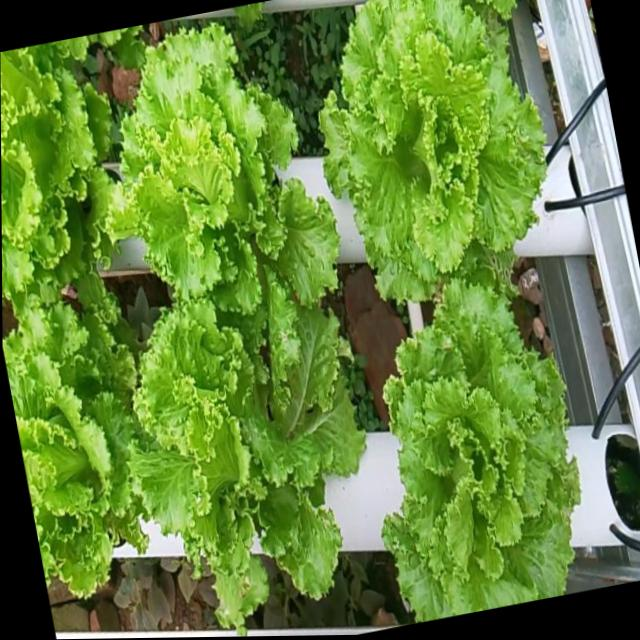Mature: (132, 299, 389, 623), (382, 267, 581, 618), (108, 15, 339, 308), (320, 0, 548, 296), (2, 295, 147, 589), (0, 44, 112, 320)
